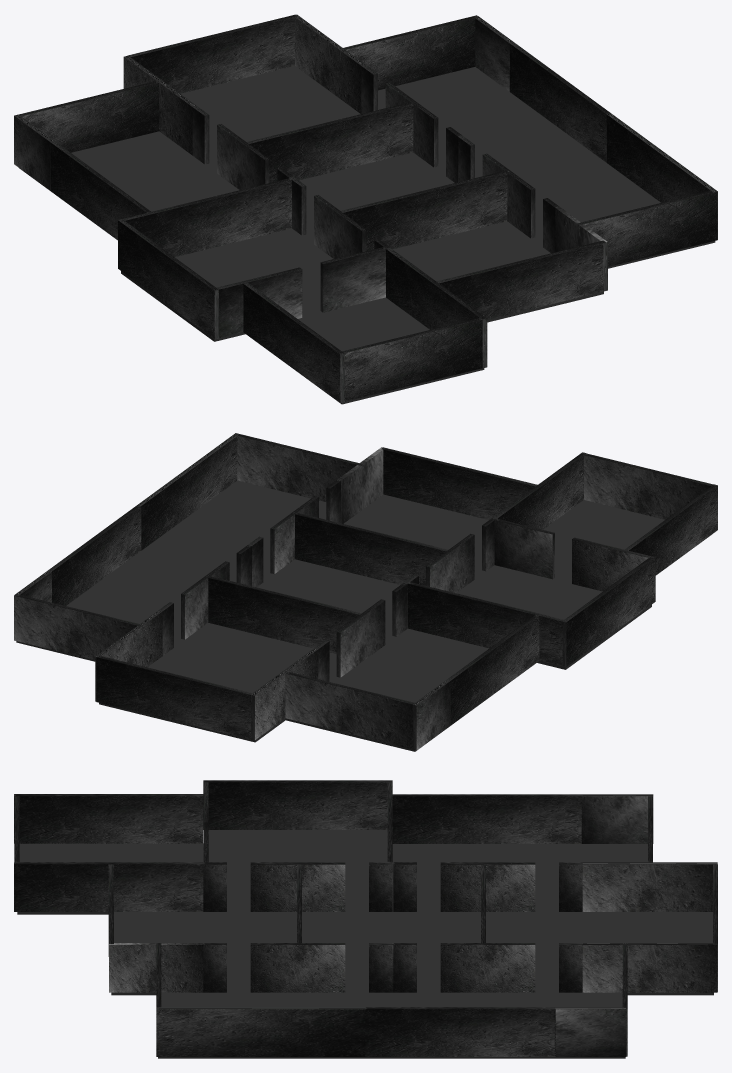
File: wall.fbx
3 renders of one model, top to bottom at view 1: azimuth 30°, elevation 25°; view 2: azimuth 150°, elevation 25°; view 3: azimuth 270°, elevation 25°, orthographic. The views are drawn at different scales.
Parts seen in each view (by area): view 1: Куб.023, Куб.018, Куб.004, Куб.019, Куб.001, Куб.011, Куб.012, Куб.007, Куб.009, Куб.017, Куб.010, Куб.014 (+14 smaller); view 2: Куб.023, Куб.018, Куб.012, Куб.004, Куб.019, Куб.009, Куб.011, Куб.001, Куб.010, Куб.007, Куб.014, Куб.017 (+14 smaller); view 3: Куб.023, Куб.018, Куб.009, Куб.003, Куб.005, Куб, Куб.015, Куб.024, Куб.028, Куб.026, Куб.016, Куб.013 (+7 smaller).
Boxes of the visible parts, left/top/right/bottom form: Куб.023: left=19, top=66, right=715, bottom=404; Куб.018: left=474, top=16, right=717, bottom=239; Куб.004: left=246, top=102, right=414, bottom=182; Куб.019: left=341, top=170, right=509, bottom=250; Куб.001: left=123, top=178, right=291, bottom=257; Куб.011: left=436, top=240, right=605, bottom=319; Куб.012: left=128, top=14, right=297, bottom=93; Куб.007: left=342, top=318, right=482, bottom=401; Куб.009: left=14, top=114, right=150, bottom=239; Куб.017: left=577, top=191, right=717, bottom=266; Куб.010: left=19, top=81, right=158, bottom=152; Куб.014: left=338, top=15, right=476, bottom=90; Куб.023: left=16, top=480, right=703, bottom=751; Куб.018: left=14, top=433, right=238, bottom=605; Куб.012: left=96, top=655, right=252, bottom=739; Куб.004: left=206, top=575, right=361, bottom=653; Куб.019: left=292, top=512, right=448, bottom=585; Куб.009: left=412, top=614, right=539, bottom=750; Куб.011: left=381, top=447, right=537, bottom=519; Куб.001: left=408, top=582, right=563, bottom=666; Куб.010: left=285, top=672, right=414, bottom=749; Куб.007: left=584, top=453, right=713, bottom=519; Куб.014: left=14, top=595, right=143, bottom=659; Куб.017: left=234, top=433, right=363, bottom=501; Куб.023: left=17, top=830, right=713, bottom=1058; Куб.018: left=156, top=1007, right=626, bottom=1056; Куб.009: left=392, top=794, right=653, bottom=843; Куб.003: left=14, top=862, right=226, bottom=911; Куб.005: left=14, top=794, right=203, bottom=843; Куб: left=203, top=780, right=392, bottom=829; Куб.015: left=559, top=943, right=717, bottom=992; Куб.024: left=559, top=862, right=717, bottom=911; Куб.028: left=109, top=943, right=226, bottom=992; Куб.026: left=250, top=943, right=345, bottom=992; Куб.016: left=440, top=943, right=535, bottom=992; Куб.013: left=250, top=862, right=345, bottom=911.
Size of what is drawn, in the model's own units: 36066 by 3809 by 46862.
